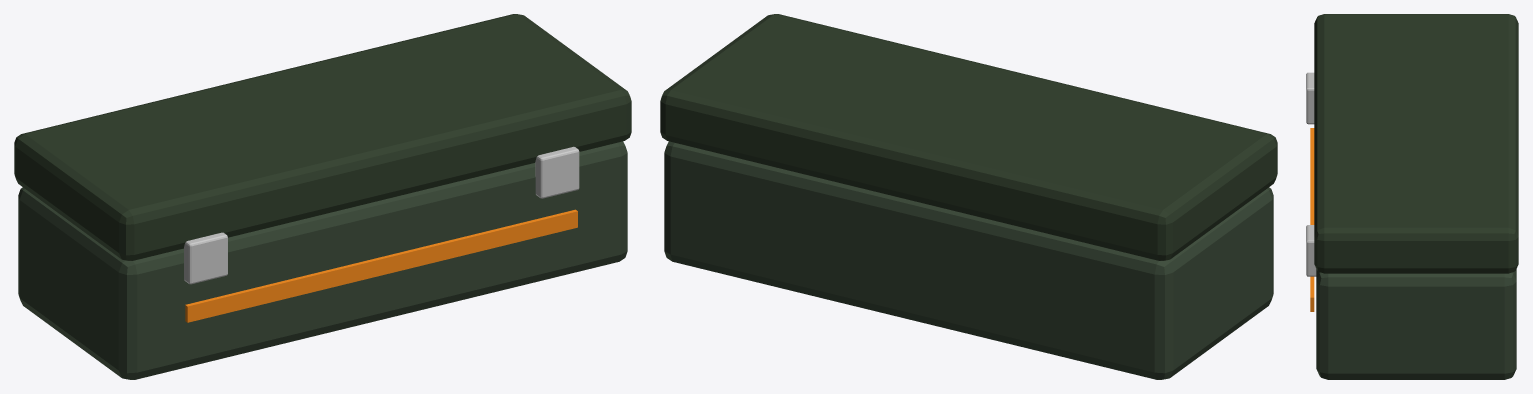
File: WeaponCase.fbx
The picture shows the model from 3 angles, left to right: view 1: azimuth 30°, elevation 25°; view 2: azimuth 150°, elevation 25°; view 3: azimuth 270°, elevation 25°; orthographic projection. The views are drawn at different scales.
Parts seen in each view (by area): view 1: Part__Metal__33402f, Part__Metal__3c4a3a, Part__SmoothPlastic__ff8c1e, Part__Metal__c8c8c8; view 2: Part__Metal__33402f, Part__Metal__3c4a3a; view 3: Part__Metal__33402f, Part__Metal__3c4a3a, Part__Metal__c8c8c8, Part__SmoothPlastic__ff8c1e.
Part boxes in pixels (box(x1,y1,x2,y2)): Part__Metal__33402f: box(14, 14, 631, 260); Part__Metal__3c4a3a: box(18, 141, 627, 379); Part__SmoothPlastic__ff8c1e: box(185, 209, 577, 322); Part__Metal__c8c8c8: box(184, 146, 579, 284); Part__Metal__33402f: box(660, 14, 1277, 260); Part__Metal__3c4a3a: box(664, 141, 1273, 379); Part__Metal__33402f: box(1314, 14, 1518, 273); Part__Metal__3c4a3a: box(1316, 269, 1516, 379); Part__Metal__c8c8c8: box(1306, 72, 1316, 276); Part__SmoothPlastic__ff8c1e: box(1310, 128, 1314, 311).
Bounding box in the file's own units: 2.62 × 0.845 × 1.06.
